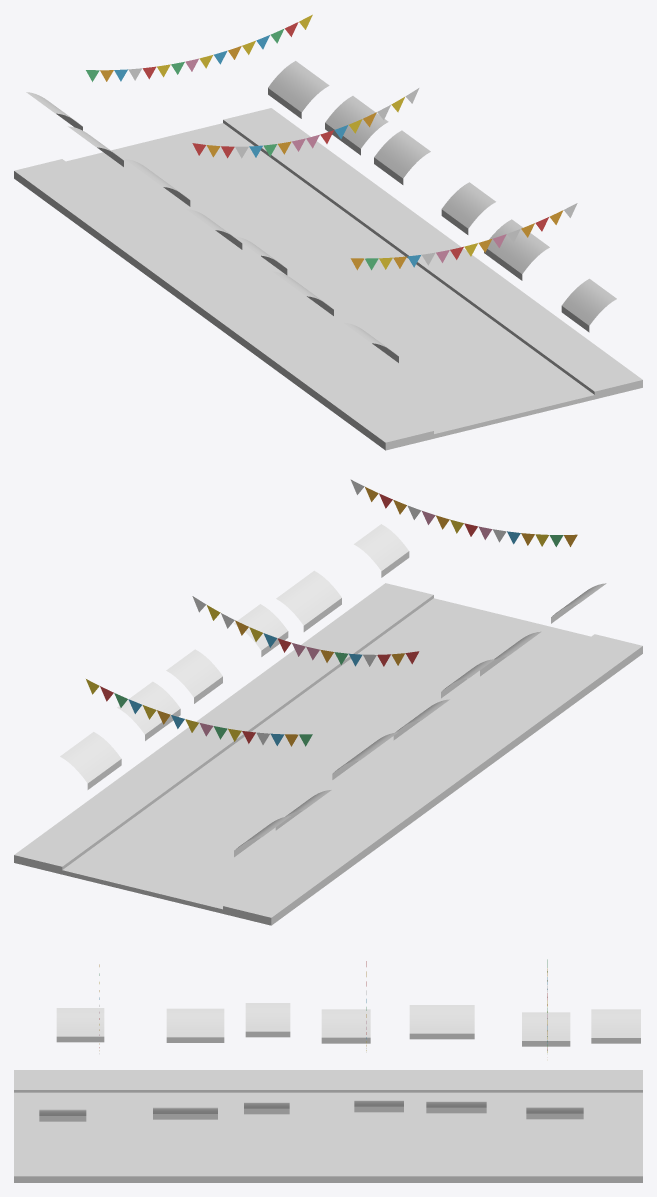
The model's file is Harita_06_Mahalle_Dort_Ayakli_Minare_Ozel.fbx.
The picture shows the model from 3 angles, top to bottom: view 1: azimuth 30°, elevation 25°; view 2: azimuth 150°, elevation 25°; view 3: azimuth 270°, elevation 25°; orthographic projection. The views are drawn at different scales.
Parts seen in each view (by area): view 1: Harita_06_Yol.001, Harita_06_Kaldirim_L.001, Harita_06_Kaldirim_R.001, Tente.157, Tente.161, Tente.160, Tente.159, Bayraklar.039, Bayraklar.040, Bayraklar.038, Tente.156, Tente.158; view 2: Harita_06_Yol.001, Harita_06_Kaldirim_L.001, Harita_06_Kaldirim_R.001, Tente.157, Tente.161, Tente.160, Bayraklar.039, Bayraklar.040, Bayraklar.038, Tente.159, Tente.156, Tente.158; view 3: Harita_06_Yol.001, Harita_06_Kaldirim_R.001, Harita_06_Kaldirim_L.001, Tente.153, Tente.150, Tente.152, Tente.155, Tente.154, Tente.149, Tente.151, Tente.157, Tente.160 (+4 smaller).
Part boxes in pixels (x1,y1,x2,y2): Harita_06_Yol.001: (66, 123, 594, 438); Harita_06_Kaldirim_L.001: (14, 159, 433, 450); Harita_06_Kaldirim_R.001: (223, 108, 642, 399); Tente.157: (484, 219, 549, 280); Tente.161: (268, 61, 329, 118); Tente.160: (325, 96, 388, 155); Tente.159: (374, 130, 430, 184); Bayraklar.039: (192, 88, 419, 158); Bayraklar.040: (86, 14, 312, 81); Bayraklar.038: (350, 203, 577, 270); Tente.156: (561, 278, 616, 332); Tente.158: (441, 182, 495, 234); Harita_06_Yol.001: (62, 598, 590, 913); Harita_06_Kaldirim_L.001: (223, 634, 642, 925); Harita_06_Kaldirim_R.001: (14, 583, 433, 874); Tente.157: (276, 570, 341, 631); Tente.161: (60, 732, 121, 789); Tente.160: (117, 681, 180, 740); Bayraklar.039: (192, 596, 419, 666); Bayraklar.040: (86, 679, 312, 746); Bayraklar.038: (350, 479, 577, 546); Tente.159: (166, 649, 222, 703); Tente.156: (354, 524, 409, 577); Tente.158: (233, 604, 288, 656); Harita_06_Yol.001: (14, 1092, 642, 1156); Harita_06_Kaldirim_R.001: (14, 1156, 642, 1182); Harita_06_Kaldirim_L.001: (14, 1070, 642, 1092); Tente.153: (409, 1005, 474, 1039); Tente.150: (166, 1008, 224, 1042); Tente.152: (321, 1009, 370, 1043); Tente.155: (591, 1009, 640, 1043); Tente.154: (522, 1012, 570, 1046); Tente.149: (56, 1008, 104, 1042); Tente.151: (245, 1003, 290, 1037); Tente.157: (153, 1107, 217, 1119); Tente.160: (426, 1101, 486, 1113).
Bounding box in the file's own units: 12 × 6.77 × 30.
